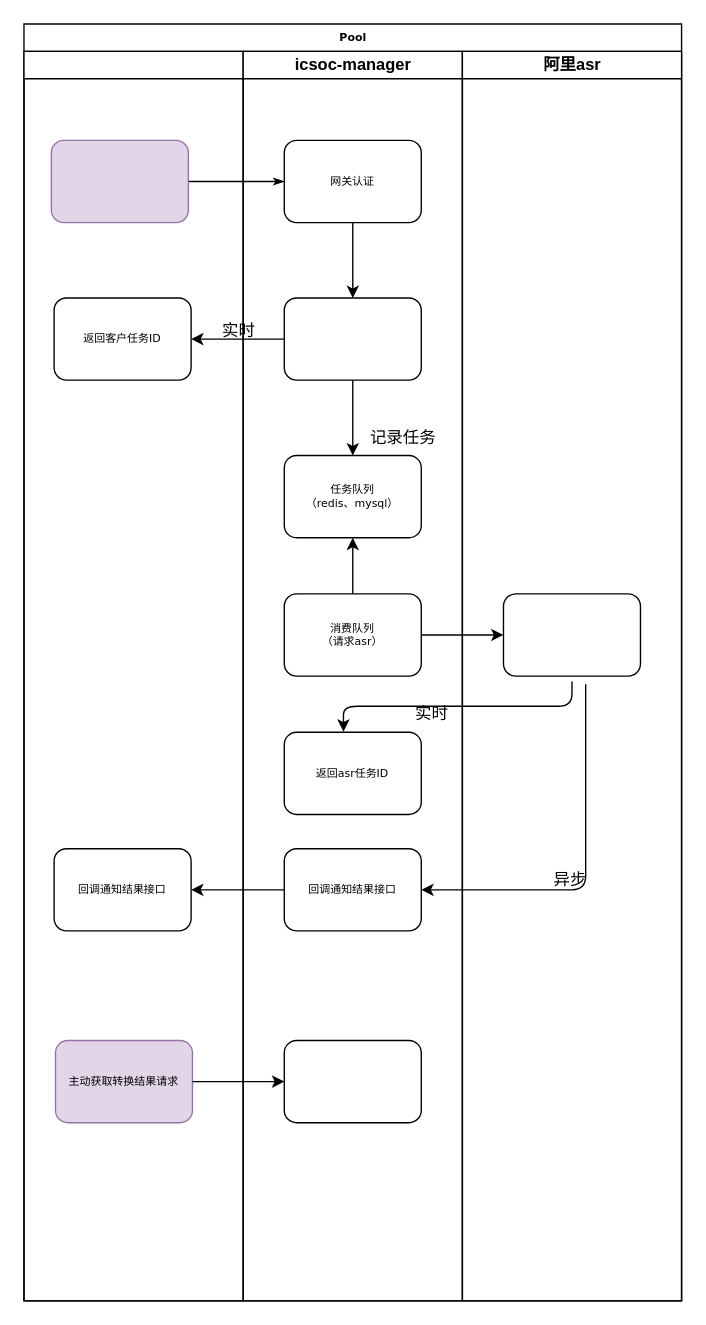
Image size: 706x1325. Some labels were removed from this diagram. The shapes that lost their labels are listed below. From the top down, each one's box as (x1, y1, x2, y2) in pixels, then its label:
(50, 139, 188, 223): 发起转换请求
(283, 297, 421, 380): 接受转换请求
(502, 593, 640, 676): asr服务
(23, 50, 243, 1301): 客户
(283, 1039, 421, 1123): 结果查询服务（通过redis，redis只保留3天数据）
